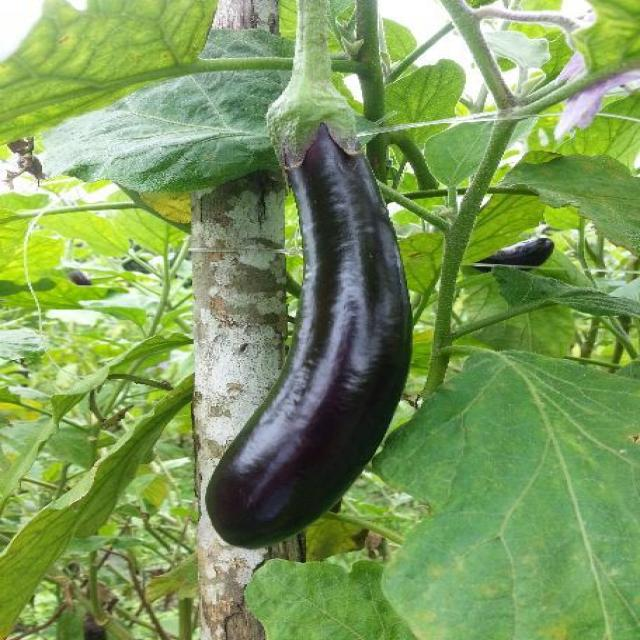eggplant: (205, 68, 418, 552)
